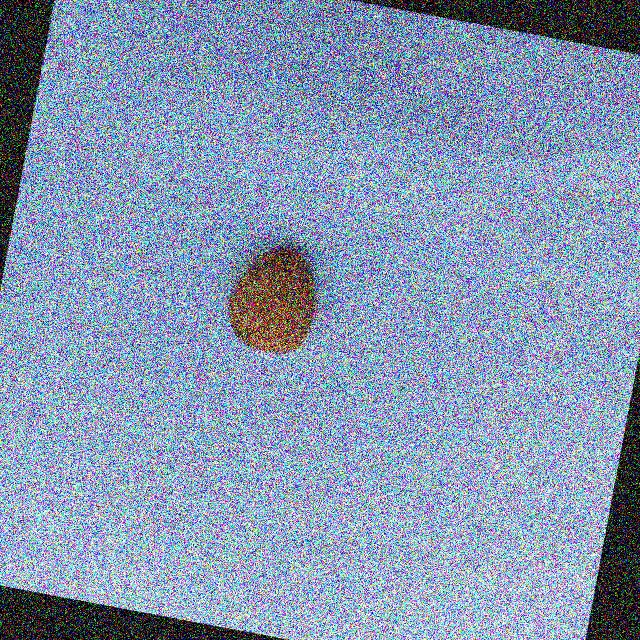grade1: (215, 230, 337, 368)
